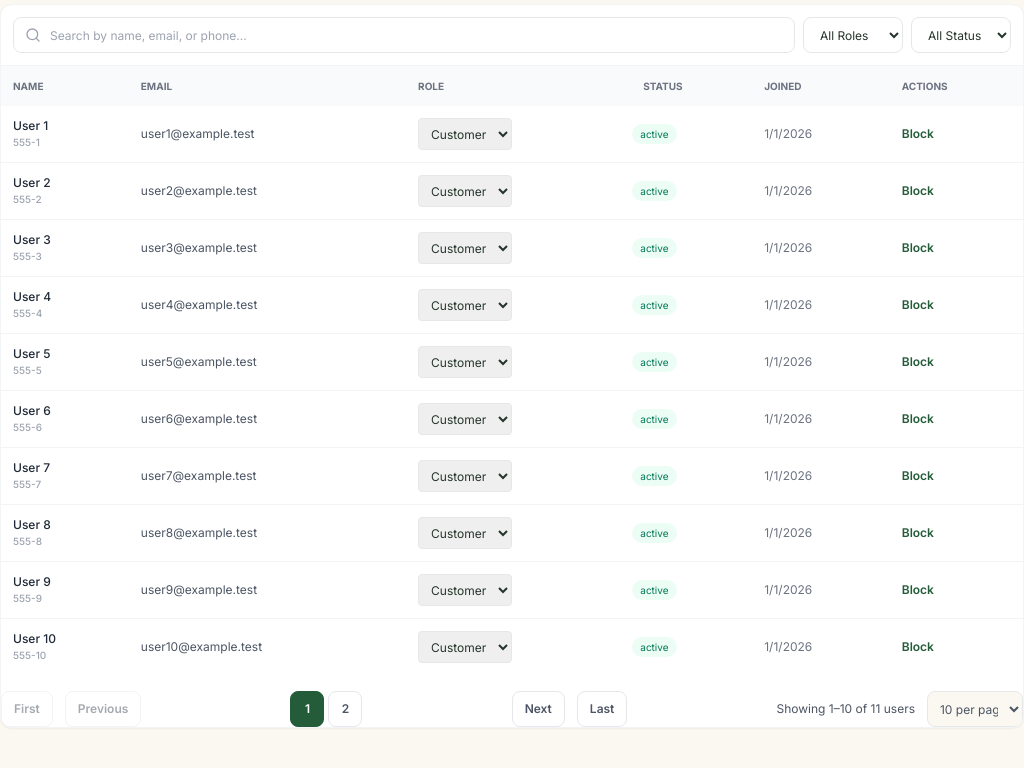
Test case: Admin user management pagination › renders the server's next page without filtering or slicing it a second time
(page scrolled)
Expected: the text "User 1" is shown, [13,118,48,133]
Expected: the text "Showing 1–10 of 11 users" is shown, [776,701,915,717]
Click the button "2".
click(346, 709)  # box [328,691,362,727]
(page scrolled)
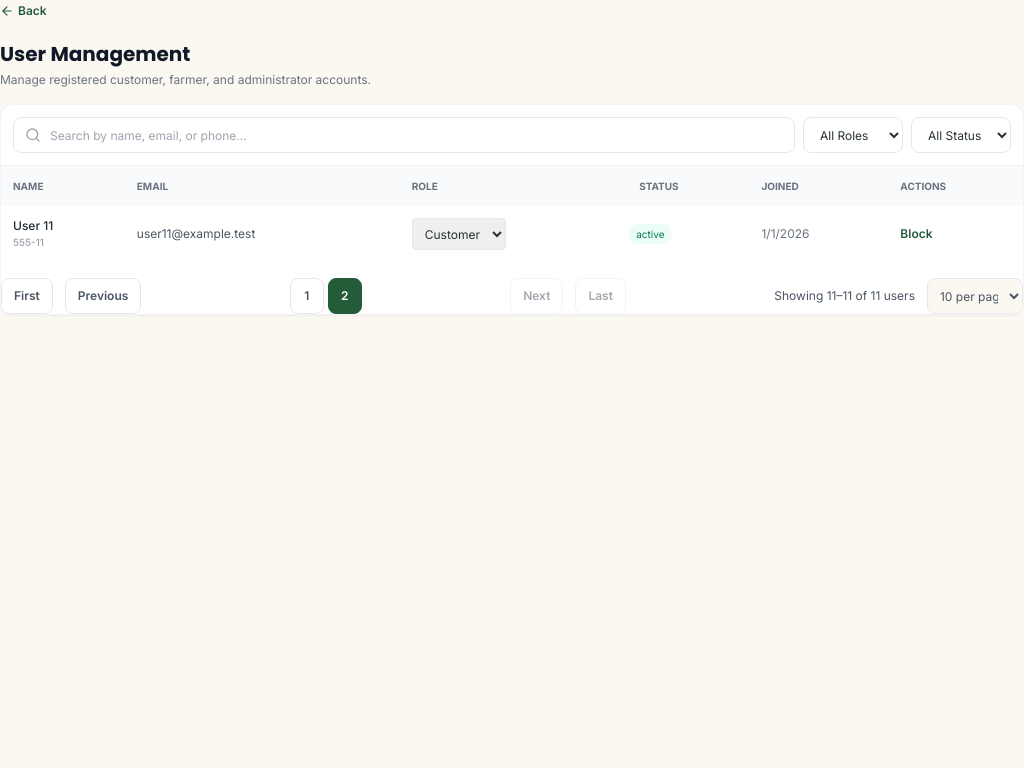
Expected: the text "User 11" is shown, [13,218,53,233]
Expected: the text "Showing 11–11 of 11 users" is shown, [774,288,915,304]
